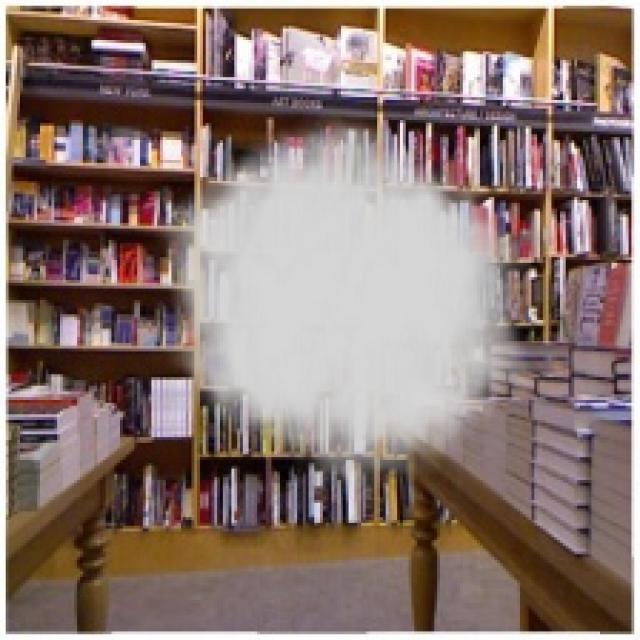smoke: (148, 103, 532, 500)
